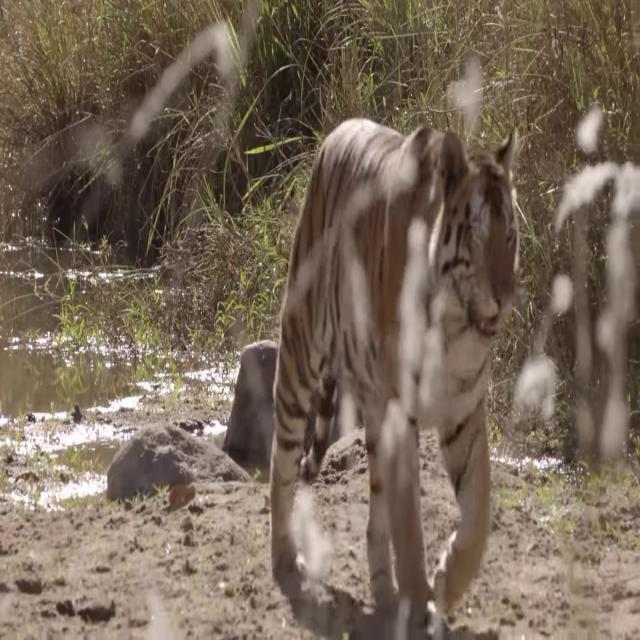tiger: (267, 117, 521, 630)
